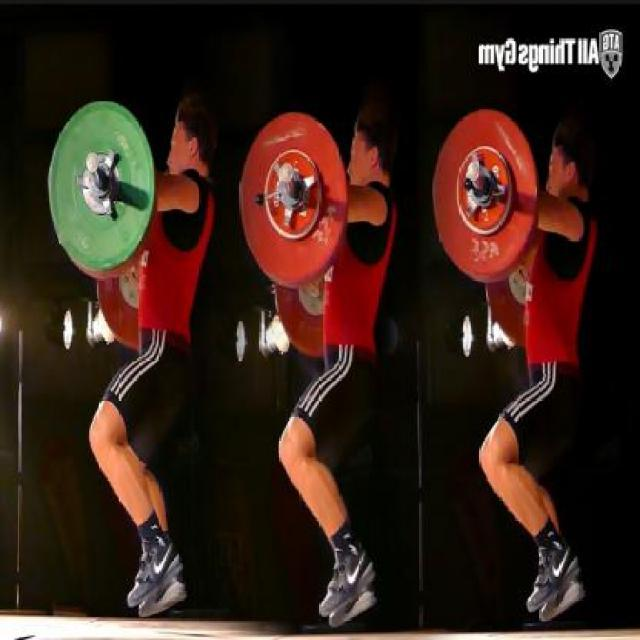Barbell: (466, 158, 483, 182), (278, 161, 294, 184), (86, 150, 100, 175)
